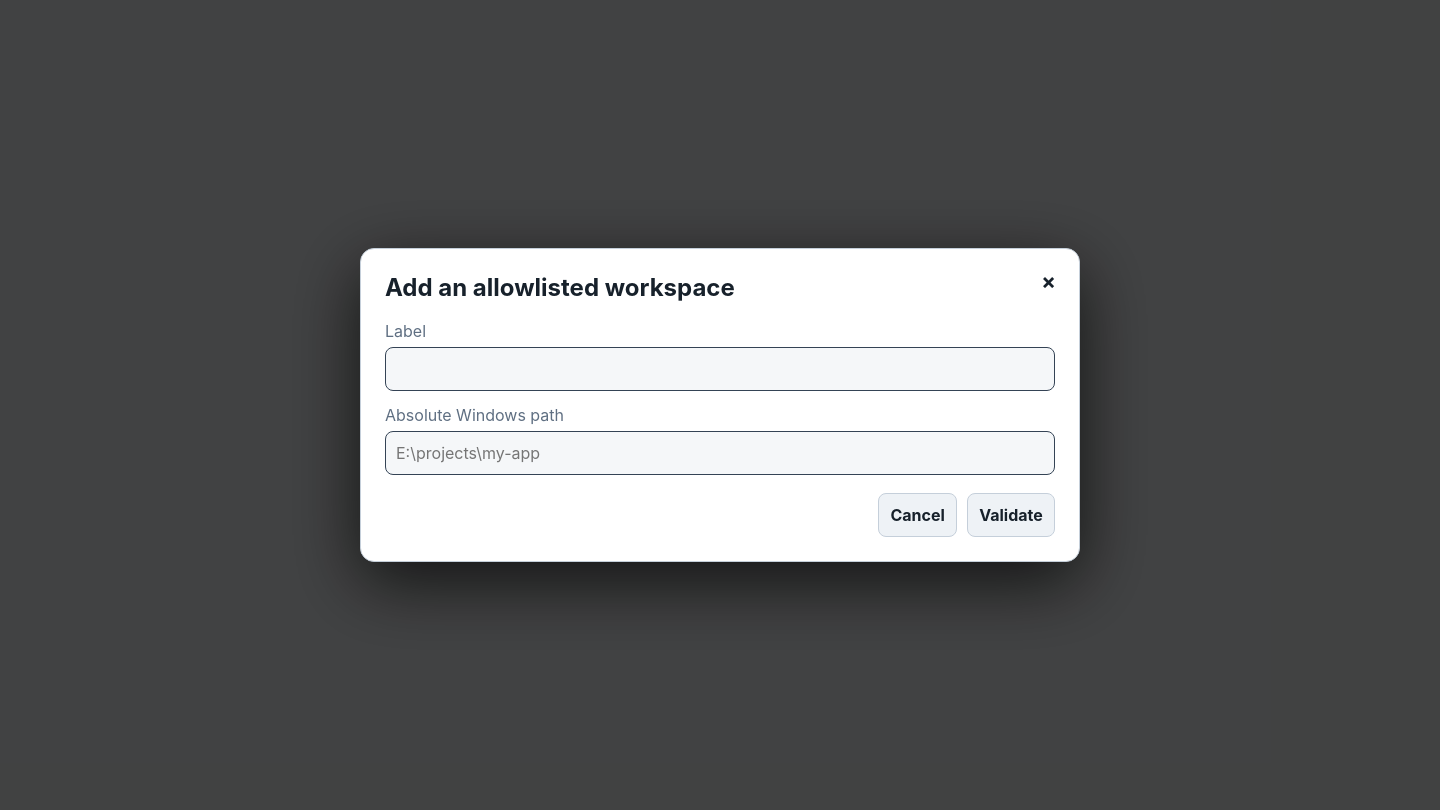
Test: cross-interface browser presentation › reports workspace validation failures
Click the button "Validate" at (1011, 516), box x1=967 y1=494 x2=1055 y2=538
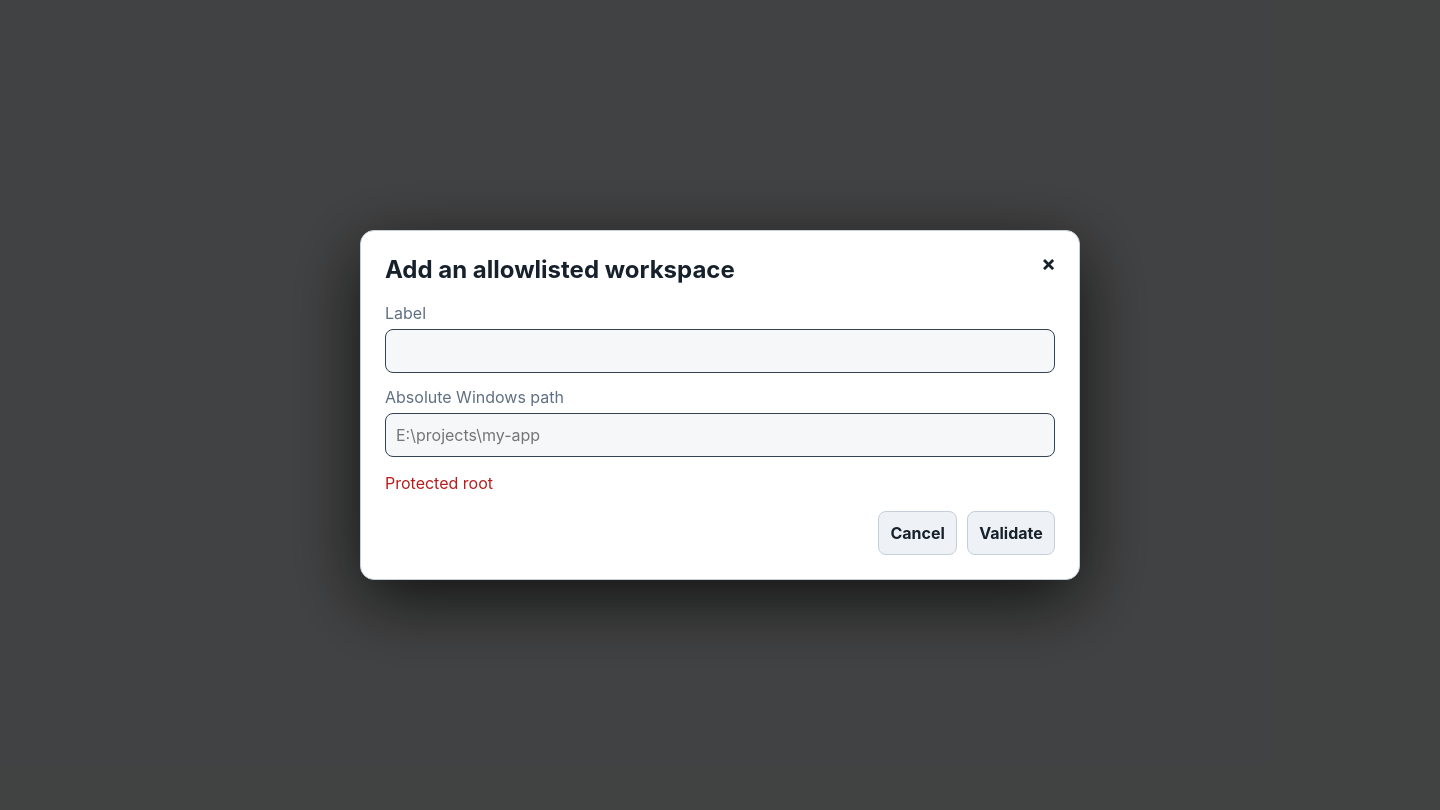
Now the text "Protected root" is shown, box x1=385 y1=474 x2=493 y2=494
